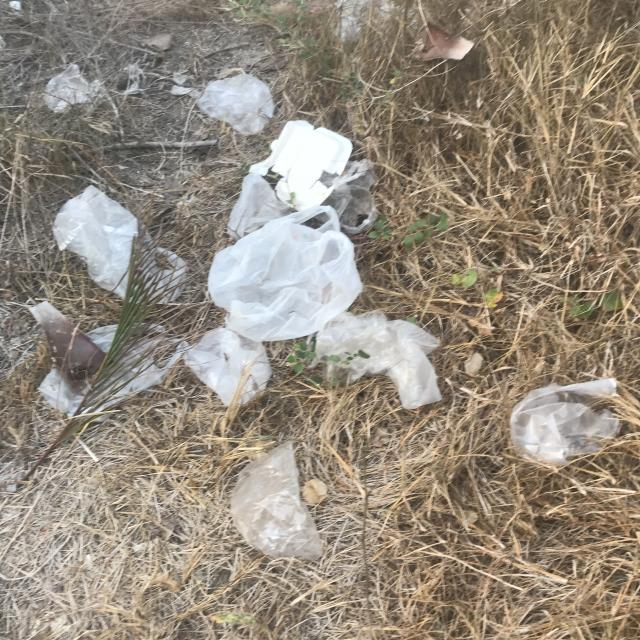Single-layer Plastic: (209, 205, 362, 342), (35, 318, 169, 432), (310, 311, 441, 409), (231, 441, 322, 560), (52, 185, 139, 298), (188, 53, 286, 148), (510, 379, 619, 464), (180, 324, 270, 416), (228, 172, 294, 240), (322, 159, 378, 236), (45, 58, 102, 130), (140, 234, 186, 302)
